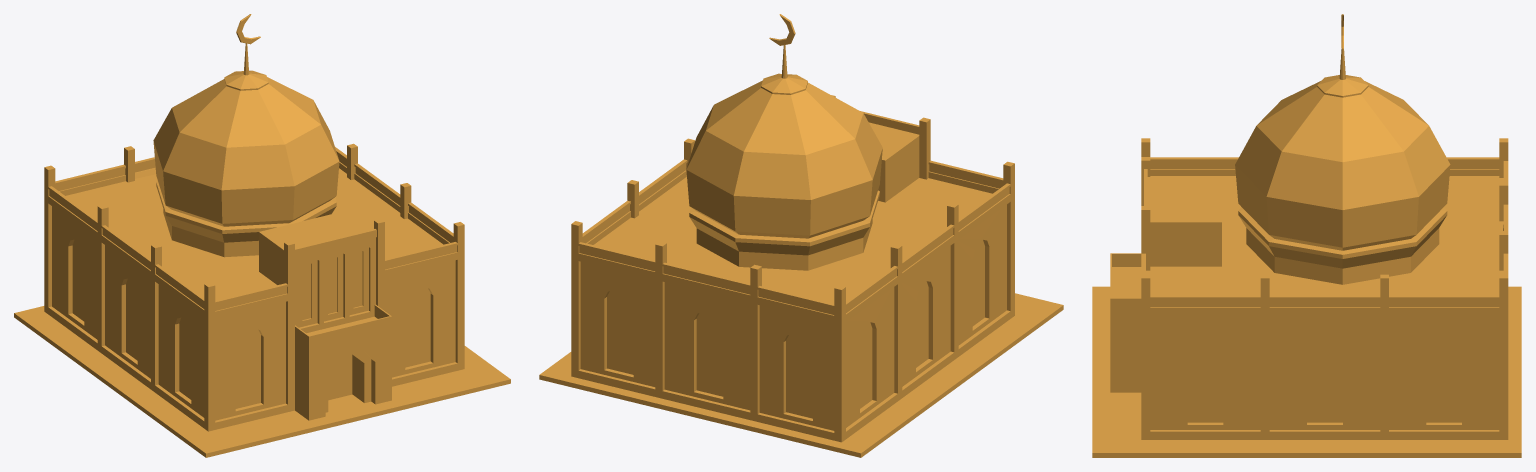
Rendered from mosque.fbx.
The picture shows the model from 3 angles, left to right: view 1: azimuth 30°, elevation 25°; view 2: azimuth 150°, elevation 25°; view 3: azimuth 270°, elevation 25°; orthographic projection. The views are drawn at different scales.
Parts seen in each view (by area): view 1: mosque; view 2: mosque; view 3: mosque.
Part boxes in pixels (left/top/right/bottom): mosque: left=14, top=14, right=510, bottom=457; mosque: left=539, top=14, right=1063, bottom=457; mosque: left=1092, top=14, right=1521, bottom=457.
Bounding box in the file's own units: 22 × 22.33 × 24.
